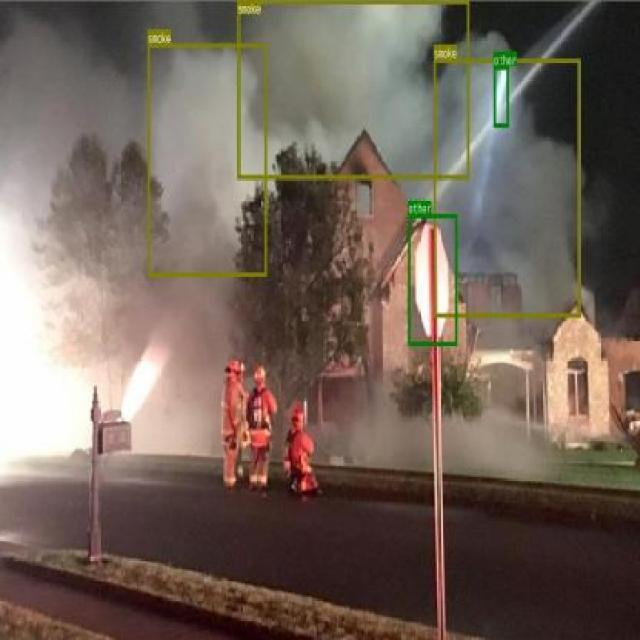Smoke: (236, 0, 469, 177), (433, 58, 579, 317), (147, 44, 267, 276)
